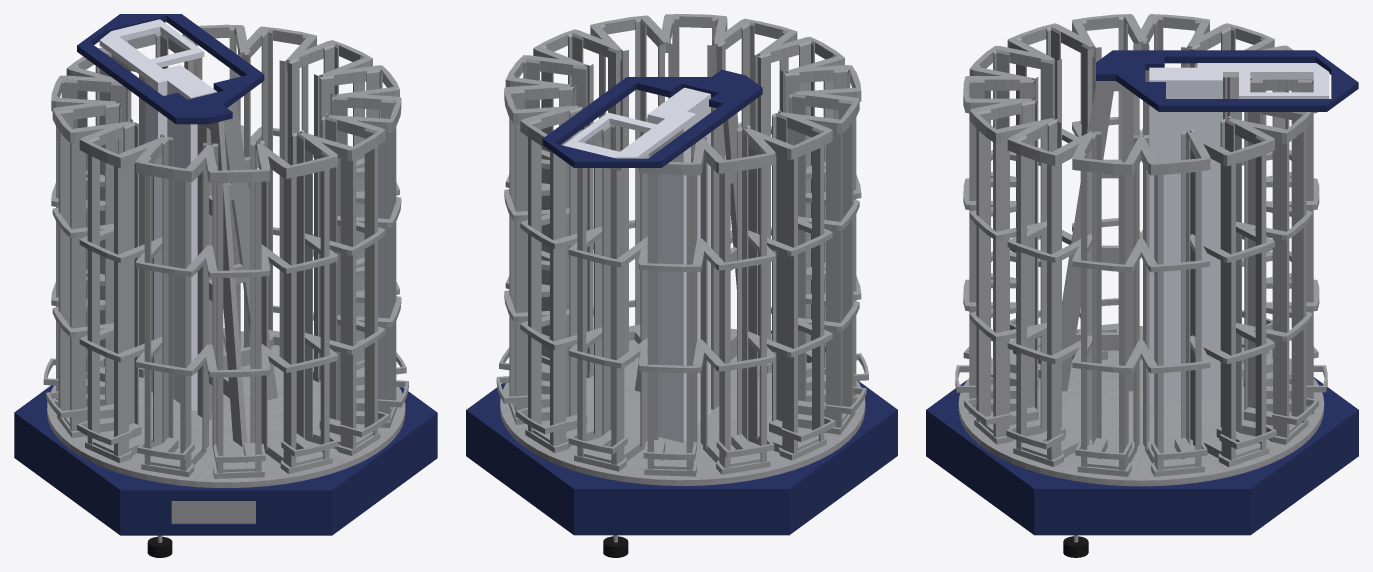
The picture shows the model from 3 angles, left to right: view 1: azimuth 30°, elevation 25°; view 2: azimuth 150°, elevation 25°; view 3: azimuth 270°, elevation 25°; orthographic projection.
Parts seen in each view (by area): view 1: 036_Duplicate, 036; view 2: 036_Duplicate, 036; view 3: 036_Duplicate, 036.
Boxes of the visible parts, x1,y1,x2,y2 form: 036_Duplicate: [43, 24, 408, 478]; 036: [14, 14, 437, 557]; 036_Duplicate: [496, 14, 868, 476]; 036: [466, 69, 897, 557]; 036_Duplicate: [955, 14, 1327, 476]; 036: [926, 50, 1358, 557].
Size of the model in its own units: 193 by 229 by 224.
Materials: 4 (1 with a texture image).
